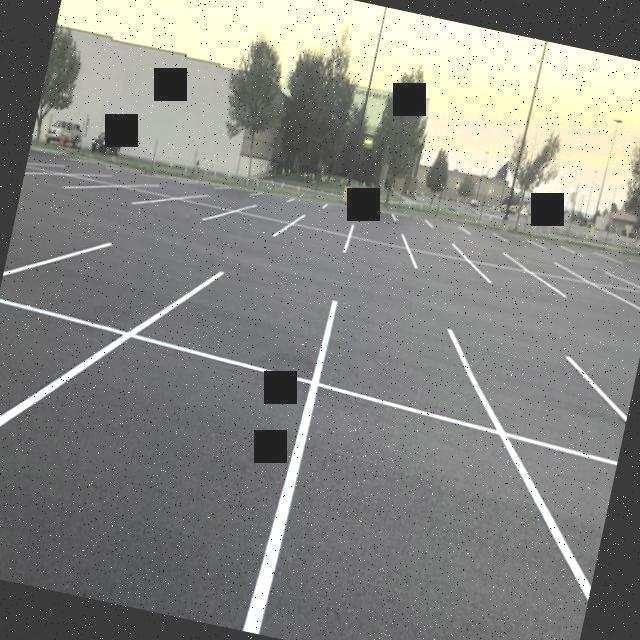space-empty: (0, 330, 318, 634), (243, 379, 591, 640), (307, 295, 507, 439), (122, 267, 338, 389), (445, 332, 627, 466), (0, 237, 223, 342), (464, 258, 568, 295), (402, 246, 493, 280), (341, 233, 418, 268), (269, 221, 352, 252)
